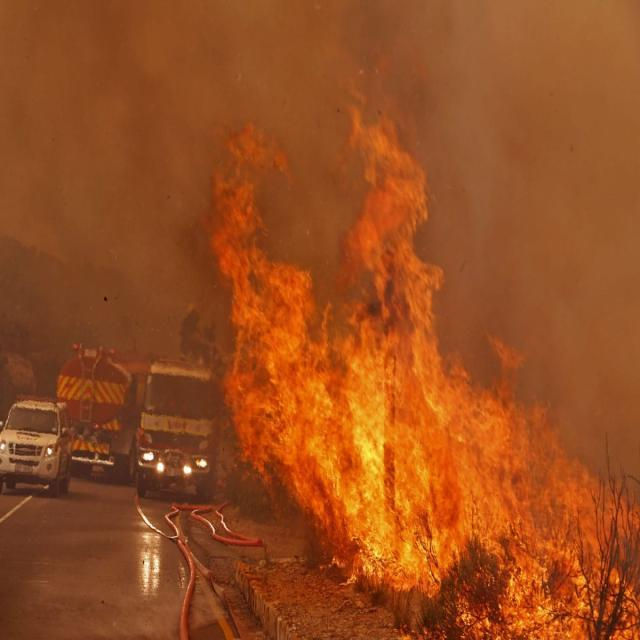Fire: (208, 81, 640, 640)
Smoke: (0, 1, 204, 340)
